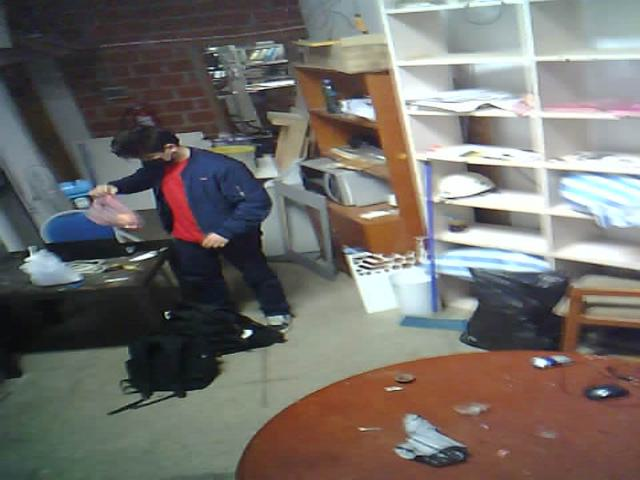person: (66, 100, 310, 355)
